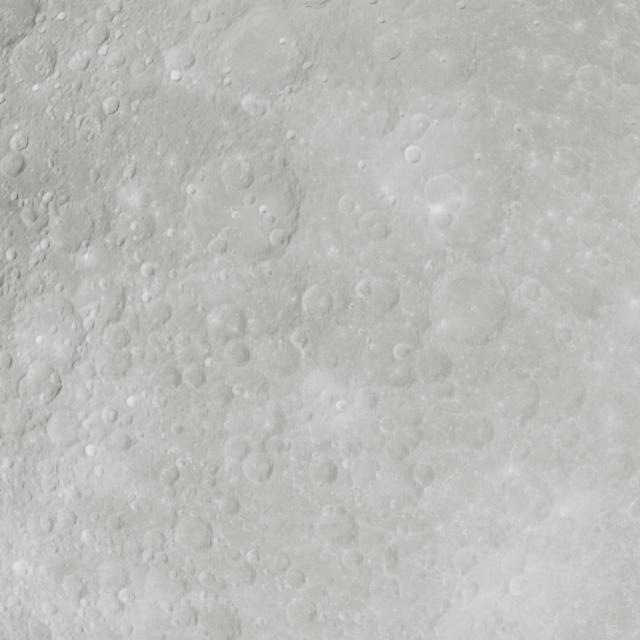crater: (429, 268, 510, 349), (43, 198, 103, 258), (113, 180, 161, 240), (551, 272, 603, 325), (422, 172, 466, 230), (358, 338, 411, 386), (250, 336, 298, 379), (353, 274, 401, 314), (20, 359, 62, 403), (44, 403, 84, 448), (205, 303, 246, 345), (503, 376, 541, 419), (411, 349, 452, 388), (140, 563, 181, 601), (314, 506, 353, 545), (370, 29, 409, 68), (138, 296, 176, 334), (174, 513, 212, 550), (220, 156, 257, 192), (25, 42, 59, 80), (538, 53, 576, 86), (300, 283, 335, 317), (359, 105, 392, 138), (162, 44, 196, 76), (551, 145, 584, 177), (241, 451, 273, 483), (101, 323, 133, 353), (357, 210, 388, 240), (552, 417, 582, 447), (285, 596, 316, 625), (306, 456, 336, 485), (570, 463, 600, 491), (238, 91, 268, 119), (574, 64, 605, 91), (369, 576, 400, 602), (222, 339, 250, 367), (168, 602, 198, 628), (615, 451, 640, 482), (422, 594, 451, 620), (256, 407, 282, 436), (470, 416, 496, 444), (224, 436, 251, 462), (452, 548, 479, 574), (60, 574, 85, 602), (66, 49, 94, 74), (142, 528, 168, 554), (85, 22, 111, 48), (213, 493, 240, 518), (1, 150, 26, 177), (105, 429, 132, 454), (518, 278, 544, 303), (51, 506, 76, 532), (289, 327, 313, 354), (228, 562, 254, 586), (105, 510, 131, 534), (18, 203, 42, 229), (264, 435, 289, 459), (412, 461, 436, 486), (102, 49, 128, 72), (182, 364, 206, 388), (408, 113, 432, 137), (339, 548, 364, 571), (510, 438, 533, 462), (282, 568, 306, 590), (579, 226, 602, 248), (159, 466, 181, 488), (508, 575, 530, 597), (76, 359, 97, 382), (321, 503, 346, 521), (268, 228, 290, 248), (269, 552, 290, 572), (9, 131, 29, 152), (381, 546, 400, 568), (270, 152, 289, 174), (392, 342, 412, 362), (207, 237, 228, 256), (100, 406, 120, 425), (101, 96, 121, 115), (12, 558, 30, 578), (337, 195, 355, 214), (554, 325, 572, 344), (40, 600, 59, 618), (403, 145, 422, 163), (199, 570, 217, 588), (378, 416, 396, 434), (80, 528, 96, 546), (122, 162, 138, 180), (140, 262, 158, 278), (118, 587, 134, 604), (463, 581, 479, 598), (170, 420, 187, 436), (0, 351, 14, 370), (246, 548, 260, 564), (82, 315, 96, 331), (388, 498, 402, 512), (41, 191, 54, 204)
